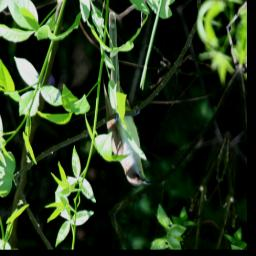Cuckoo: (80, 11, 181, 192)
